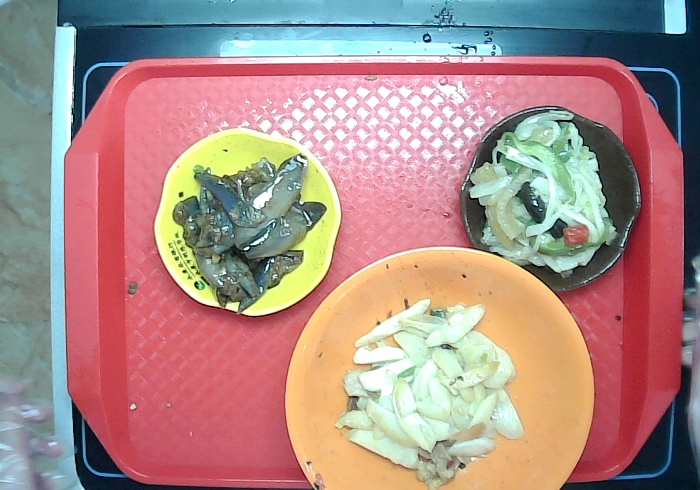YKMZ-Huang_Se_Ao_Bian_Wan: (149, 119, 346, 324)
YKMZ-Ju_Se_Tang_Wan: (282, 241, 598, 490)
YKMZ-Ka_Fei_Ao_Bian_Wan: (450, 100, 648, 301)
